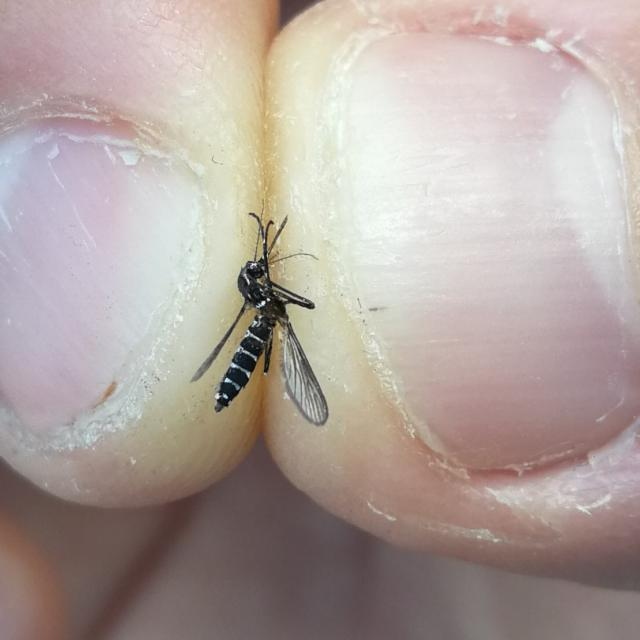albopictus: (182, 193, 333, 434)
